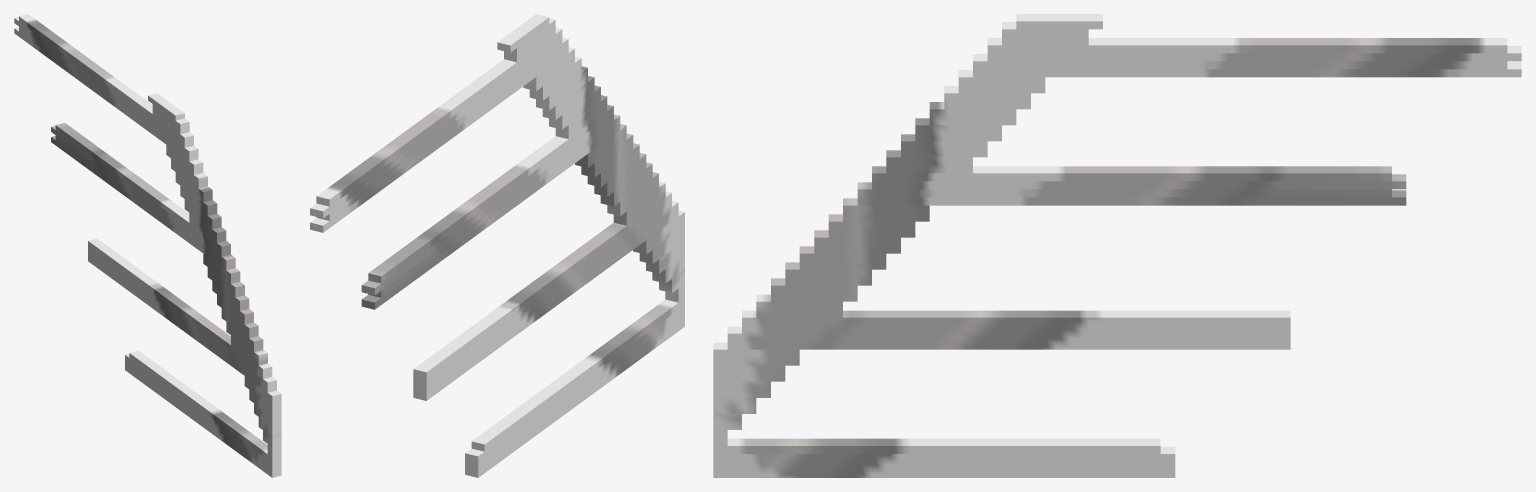
File: rail.obj
3 views of the same model, side by side, from view 1: azimuth 30°, elevation 25°; view 2: azimuth 150°, elevation 25°; view 3: azimuth 270°, elevation 25° (orthographic). The views are drawn at different scales.
Bounding box in the file's own units: 0.03 × 0.8906 × 1.43.
